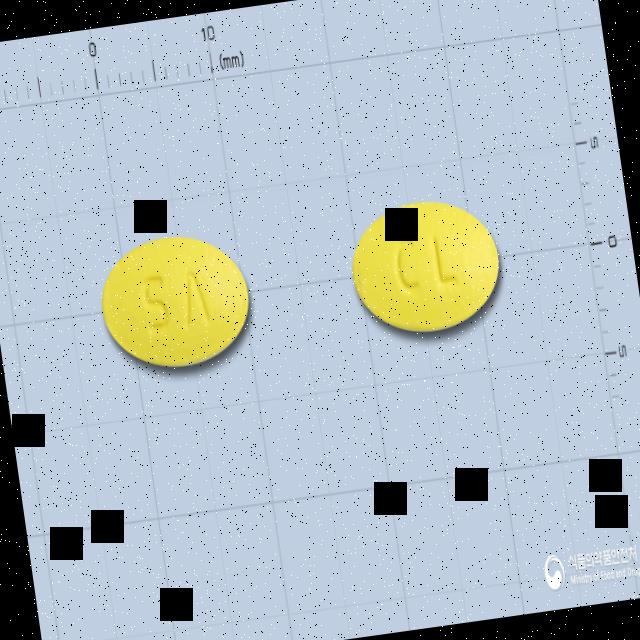CLARIUM: (90, 223, 261, 382)
